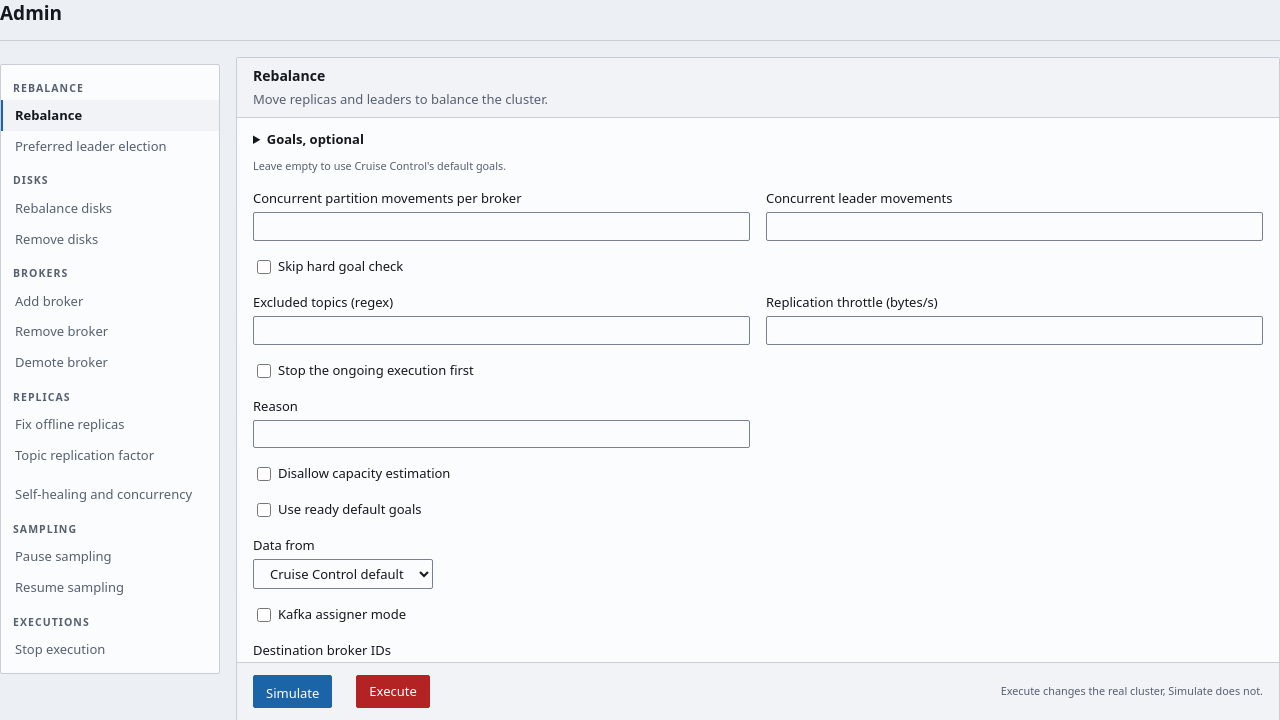
Test case: Admin › remove broker sends brokerid and throttle_removed_broker, and names the broker in the dialog
The image size is (1280, 720).
Click the tab "Remove broker" at coordinates (110, 332), box [1,317,219,348]
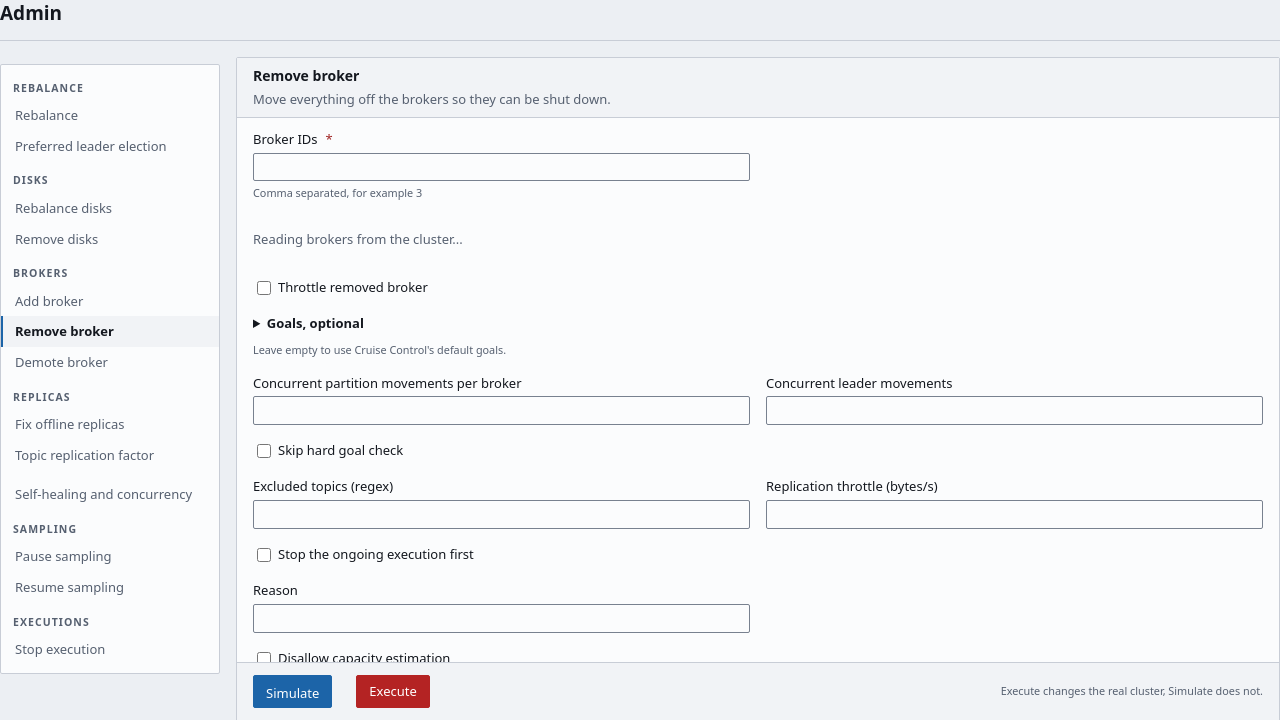
Type "3" into the field labelled "Broker IDs *" at coordinates (502, 167), box [253,152,750,181]
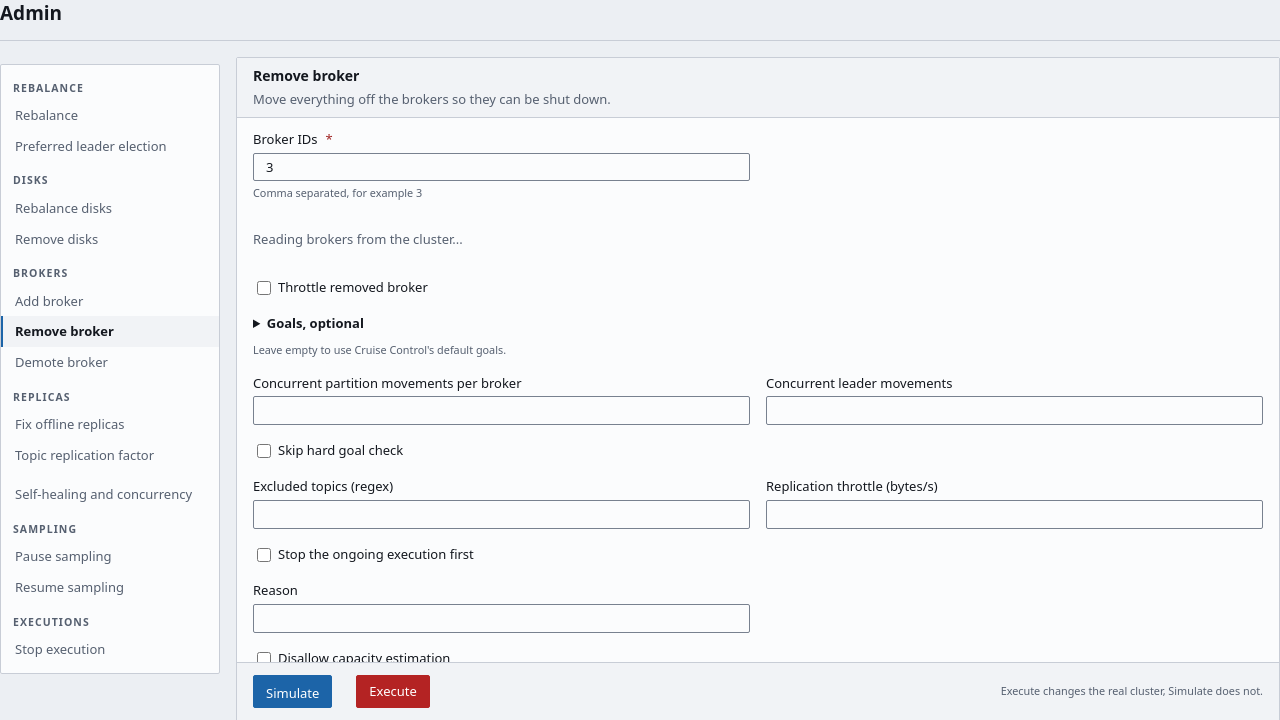
Click the checkbox labelled "Throttle removed broker" at coordinates (264, 288), box [257,281,271,295]
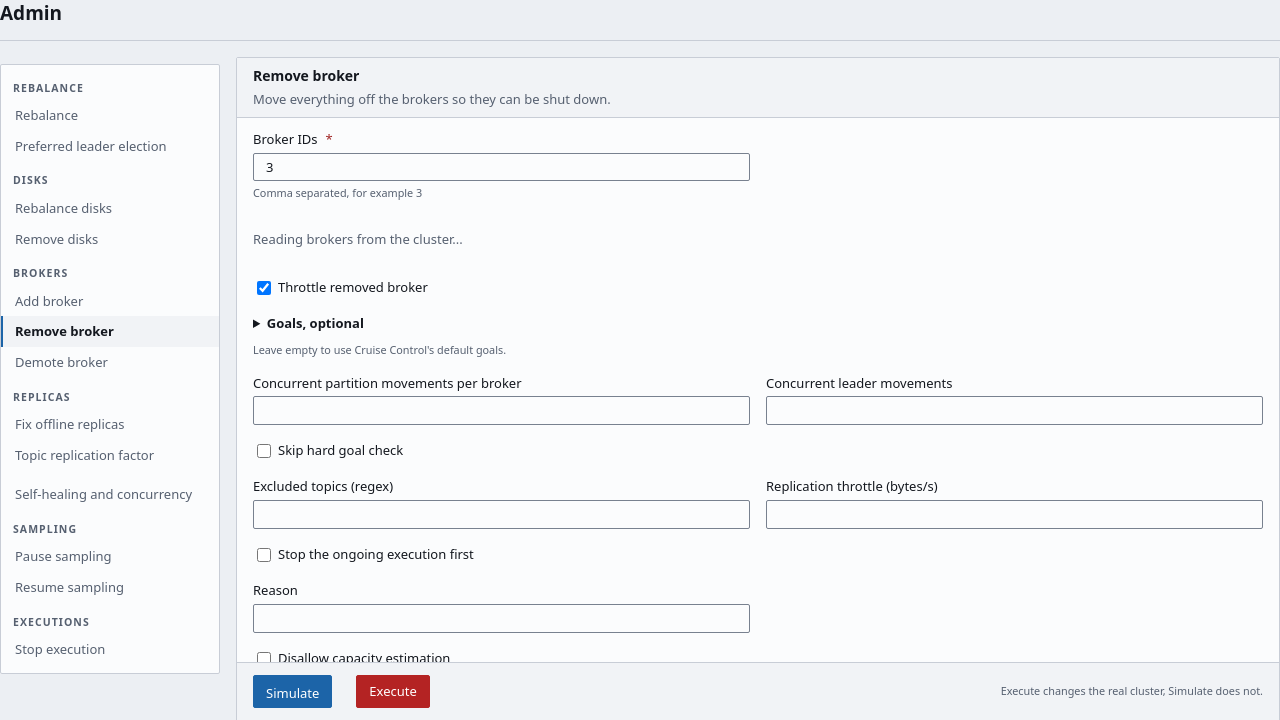
Click the button "Simulate" at coordinates (293, 692), box [253,675,332,708]
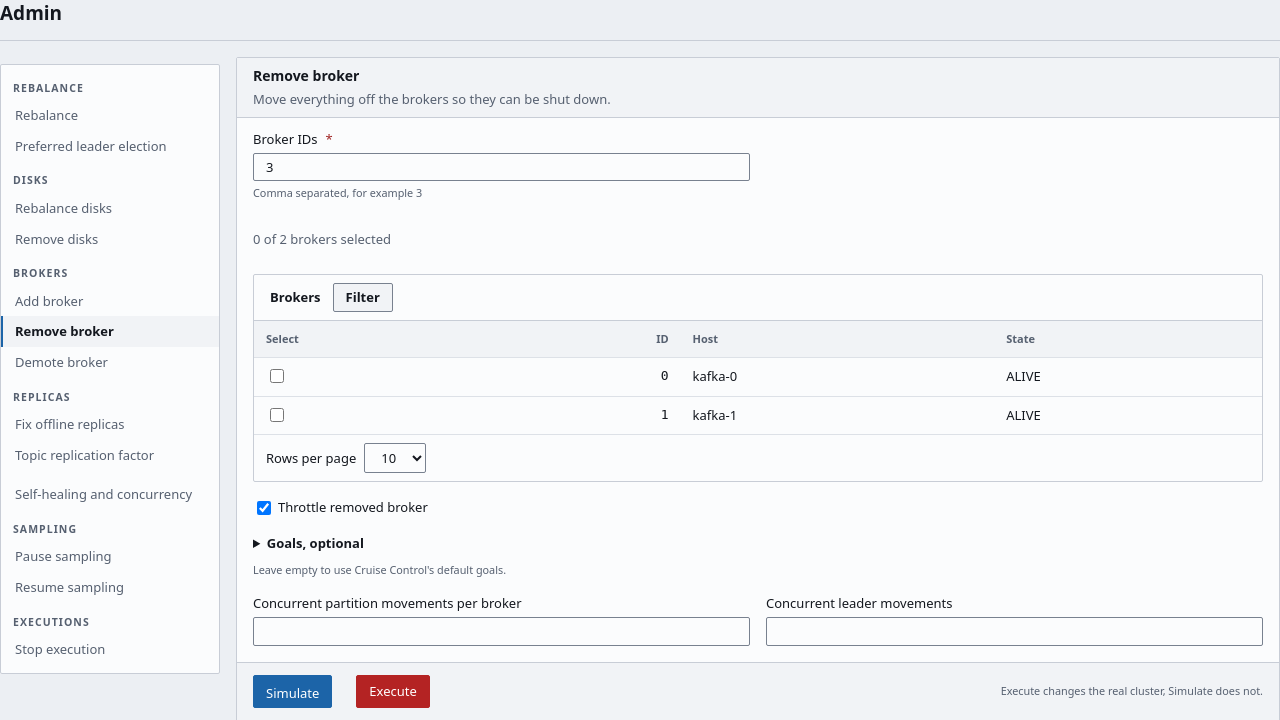
Click the button "Execute" at coordinates (393, 692), box [356,675,430,708]
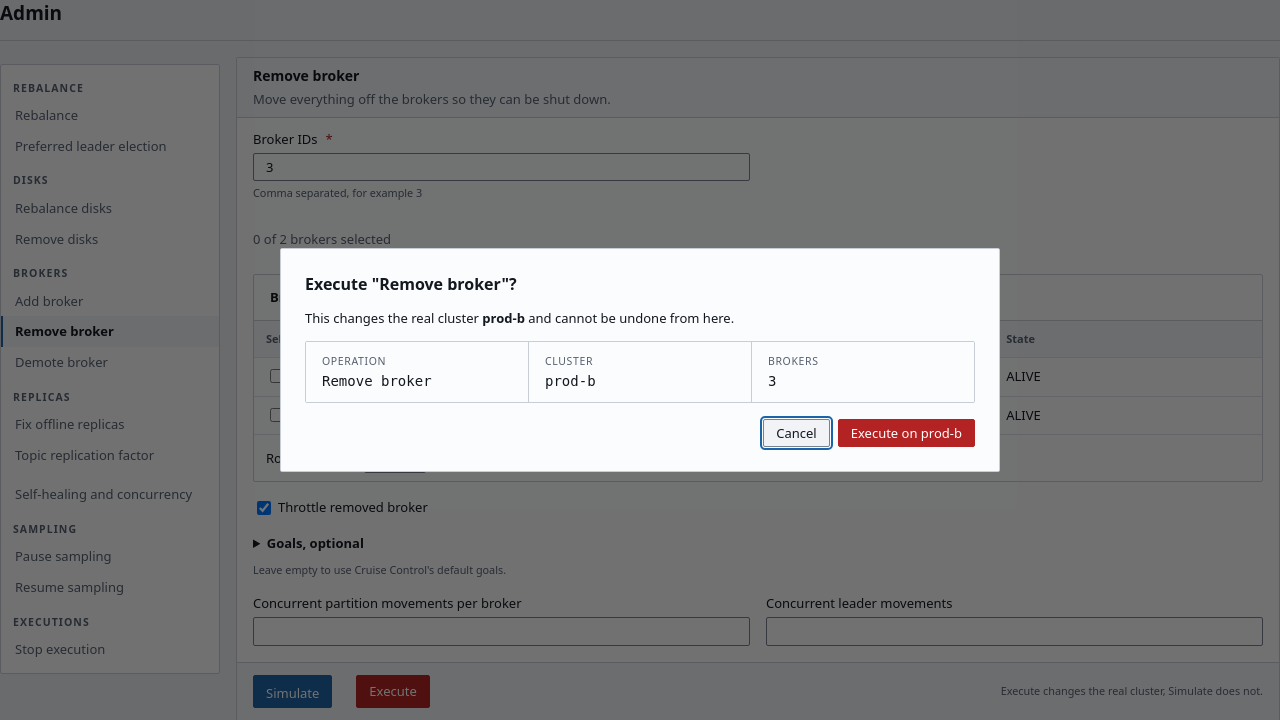
expect the dialog shows "3": met, box [768,373,776,389]
